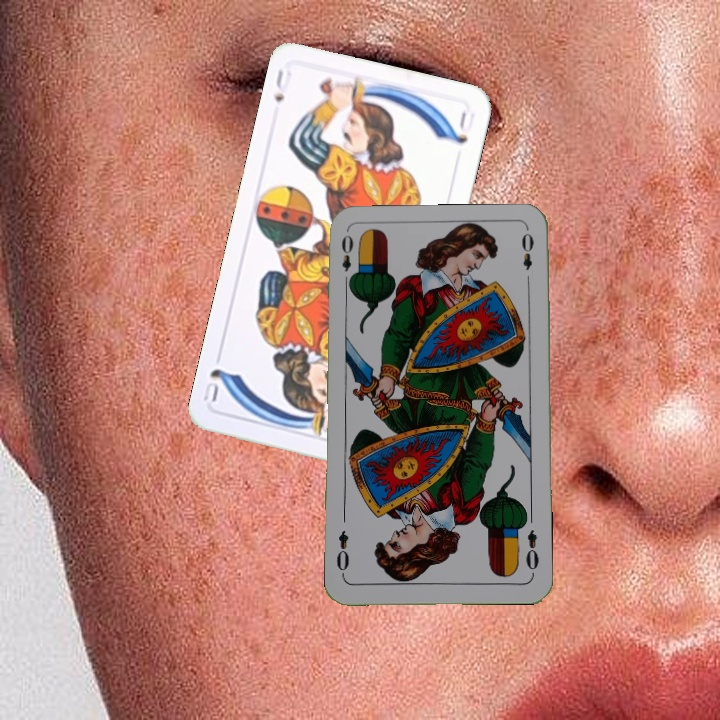EO: (337, 230, 355, 289), (522, 526, 541, 578)
SU: (270, 64, 295, 105)
